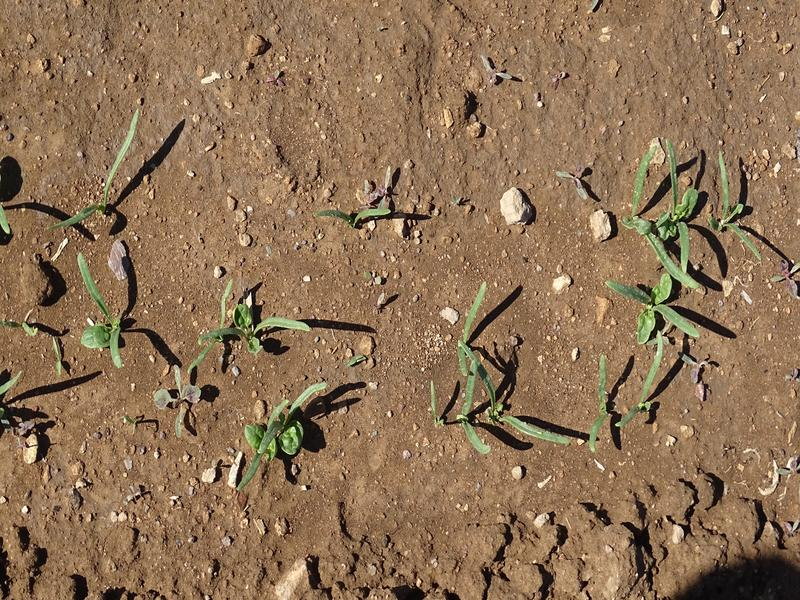Espinaca: (438, 289, 569, 454), (619, 150, 766, 285), (605, 271, 701, 423), (233, 374, 334, 488), (61, 116, 152, 234), (64, 259, 142, 372), (202, 296, 328, 357), (322, 193, 388, 235), (586, 355, 611, 457)
